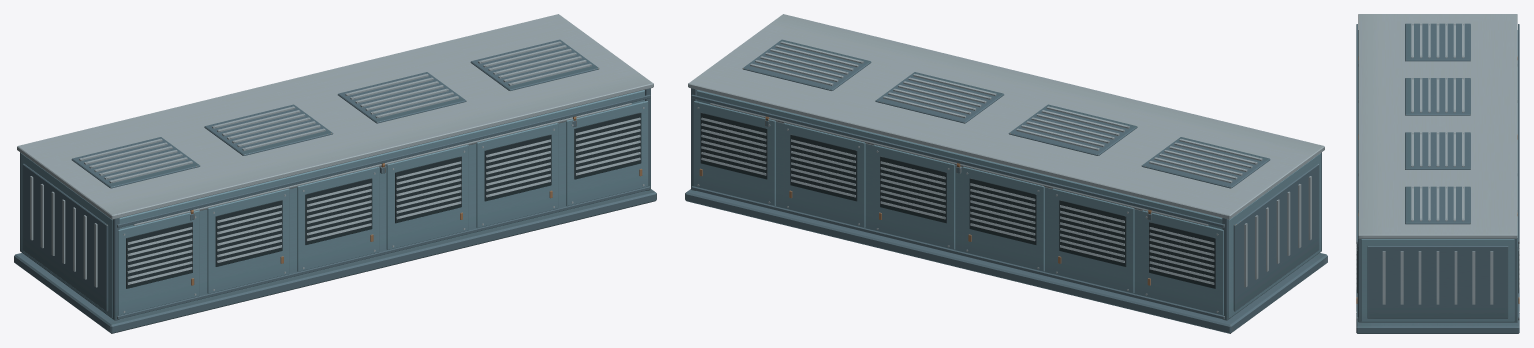
The model's file is City_Coolant_Higgsfield.glb.
3 renders of one model, left to right at view 1: azimuth 30°, elevation 25°; view 2: azimuth 150°, elevation 25°; view 3: azimuth 270°, elevation 25°, orthographic. The views are drawn at different scales.
Parts seen in each view (by area): view 1: Frostline_Coolant_Housing_Candidate; view 2: Frostline_Coolant_Housing_Candidate; view 3: Frostline_Coolant_Housing_Candidate.
Part boxes in pixels (box(x1,y1,x2,y2)): Frostline_Coolant_Housing_Candidate: box(14, 14, 656, 333); Frostline_Coolant_Housing_Candidate: box(685, 14, 1327, 333); Frostline_Coolant_Housing_Candidate: box(1356, 14, 1519, 333).
Bounding box in the file's own units: 10 × 2.11 × 3.1.
Materials: 1 (1 with a texture image).
